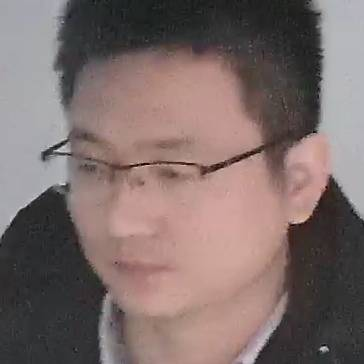gg: (33, 16, 336, 319)
